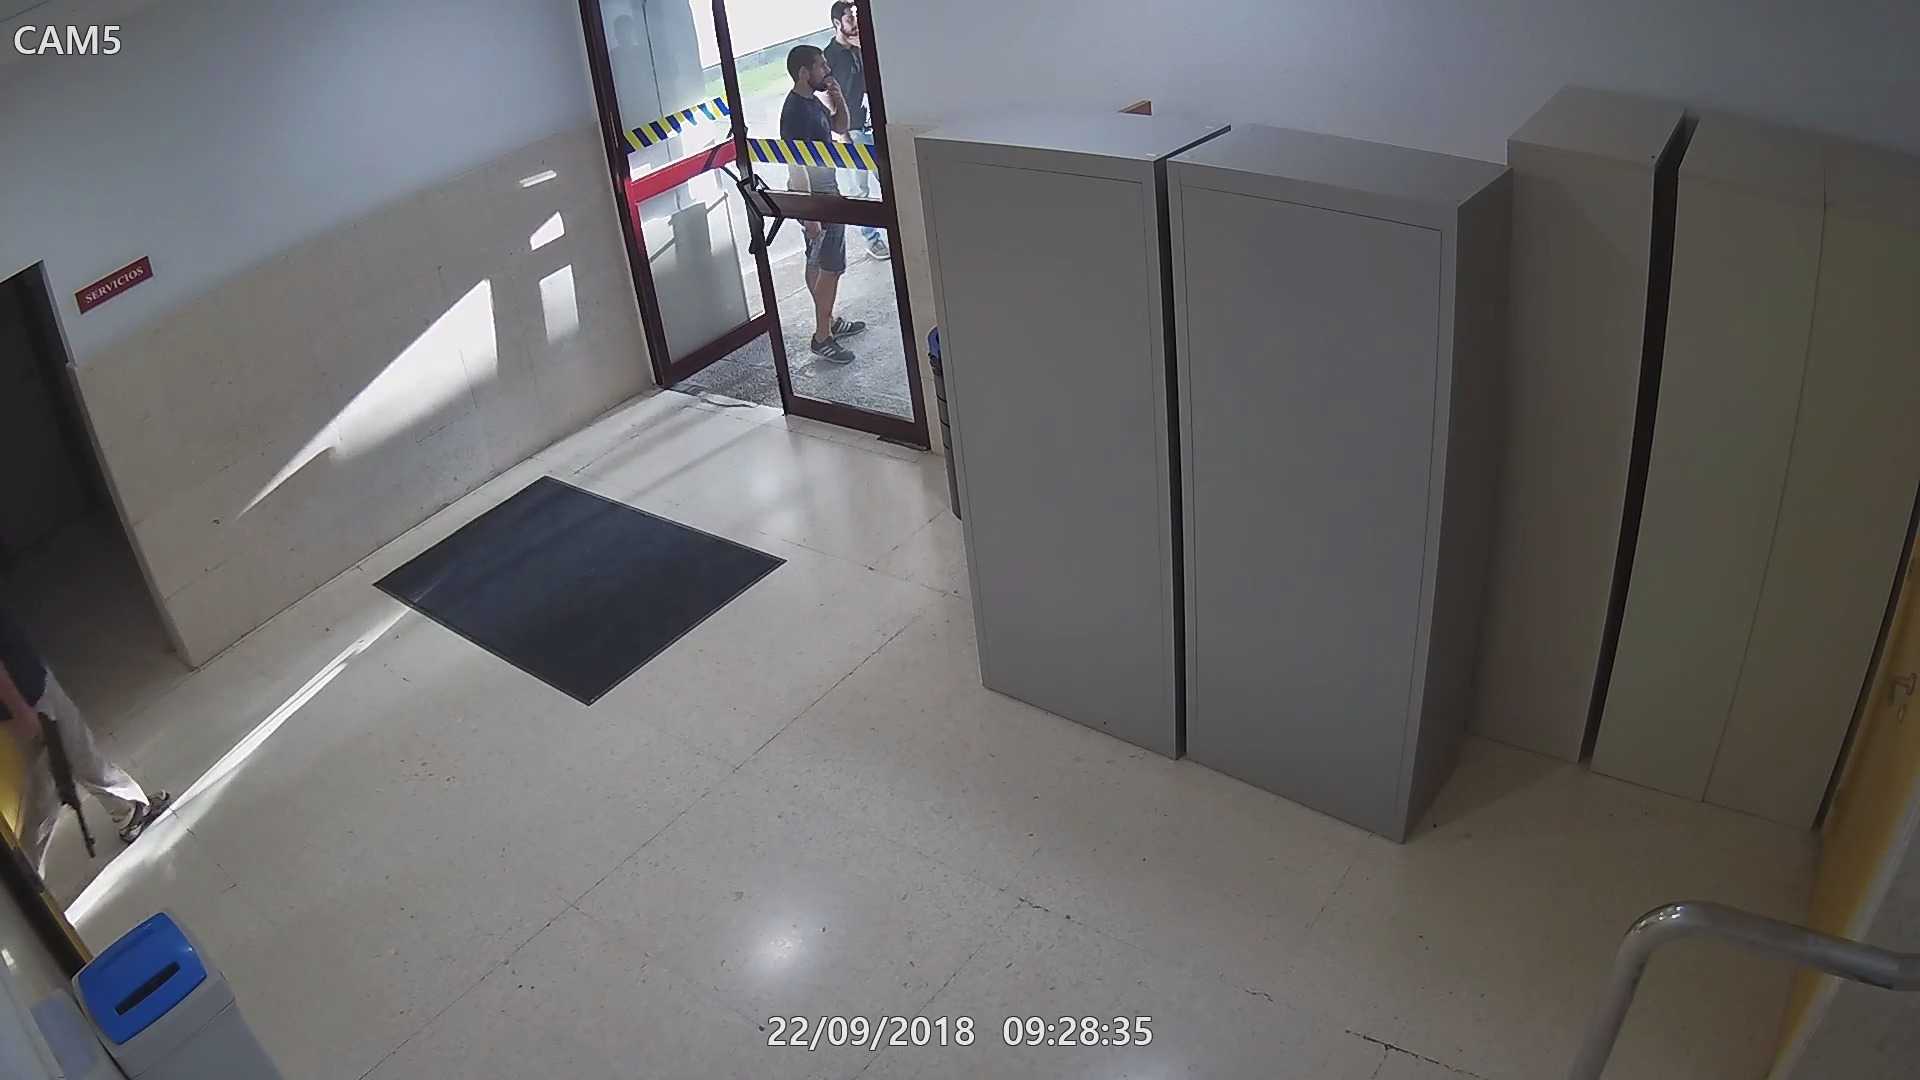Handgun: (796, 220, 829, 264)
Short_rifle: (7, 708, 103, 860)
